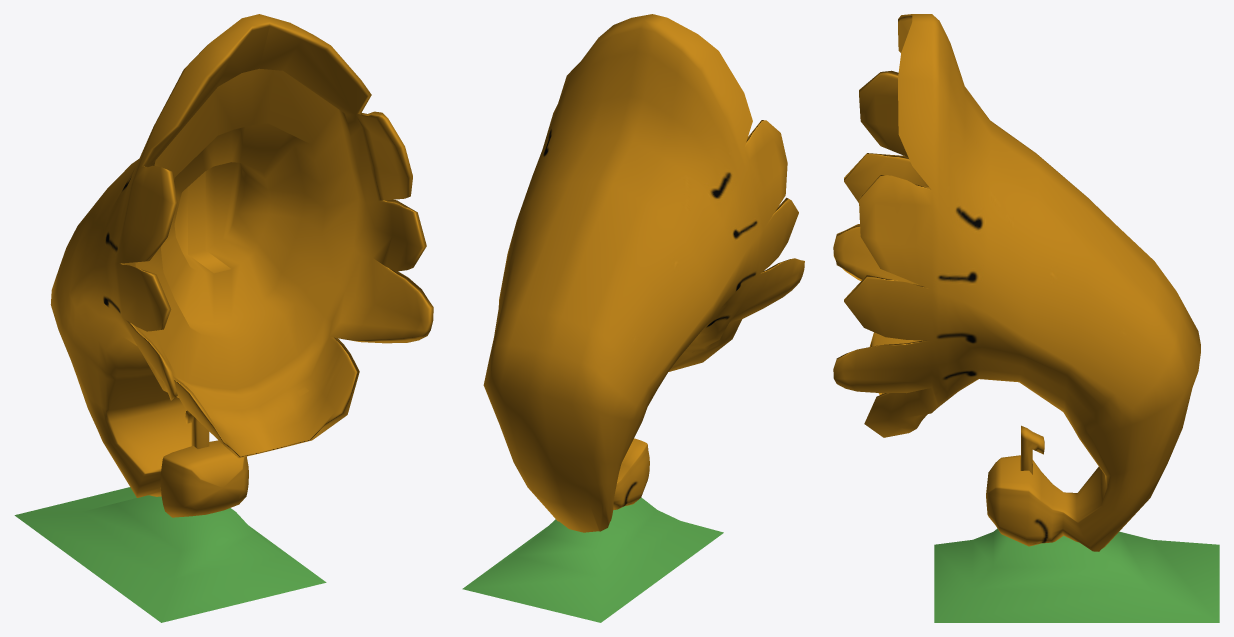
File: grammofono_v1.0.fbx
3 renders of one model, left to right at view 1: azimuth 30°, elevation 25°; view 2: azimuth 150°, elevation 25°; view 3: azimuth 270°, elevation 25°, orthographic. The views are drawn at different scales.
Visible parts, largest first — view 1: cespuglio_grammofono; view 2: cespuglio_grammofono; view 3: cespuglio_grammofono.
Boxes of the visible parts, x1=… form: cespuglio_grammofono: x1=14, y1=14, x2=433, y2=622; cespuglio_grammofono: x1=462, y1=14, x2=804, y2=622; cespuglio_grammofono: x1=833, y1=14, x2=1219, y2=622.
Bounding box in the file's own units: 19.34 × 40.41 × 24.88.
